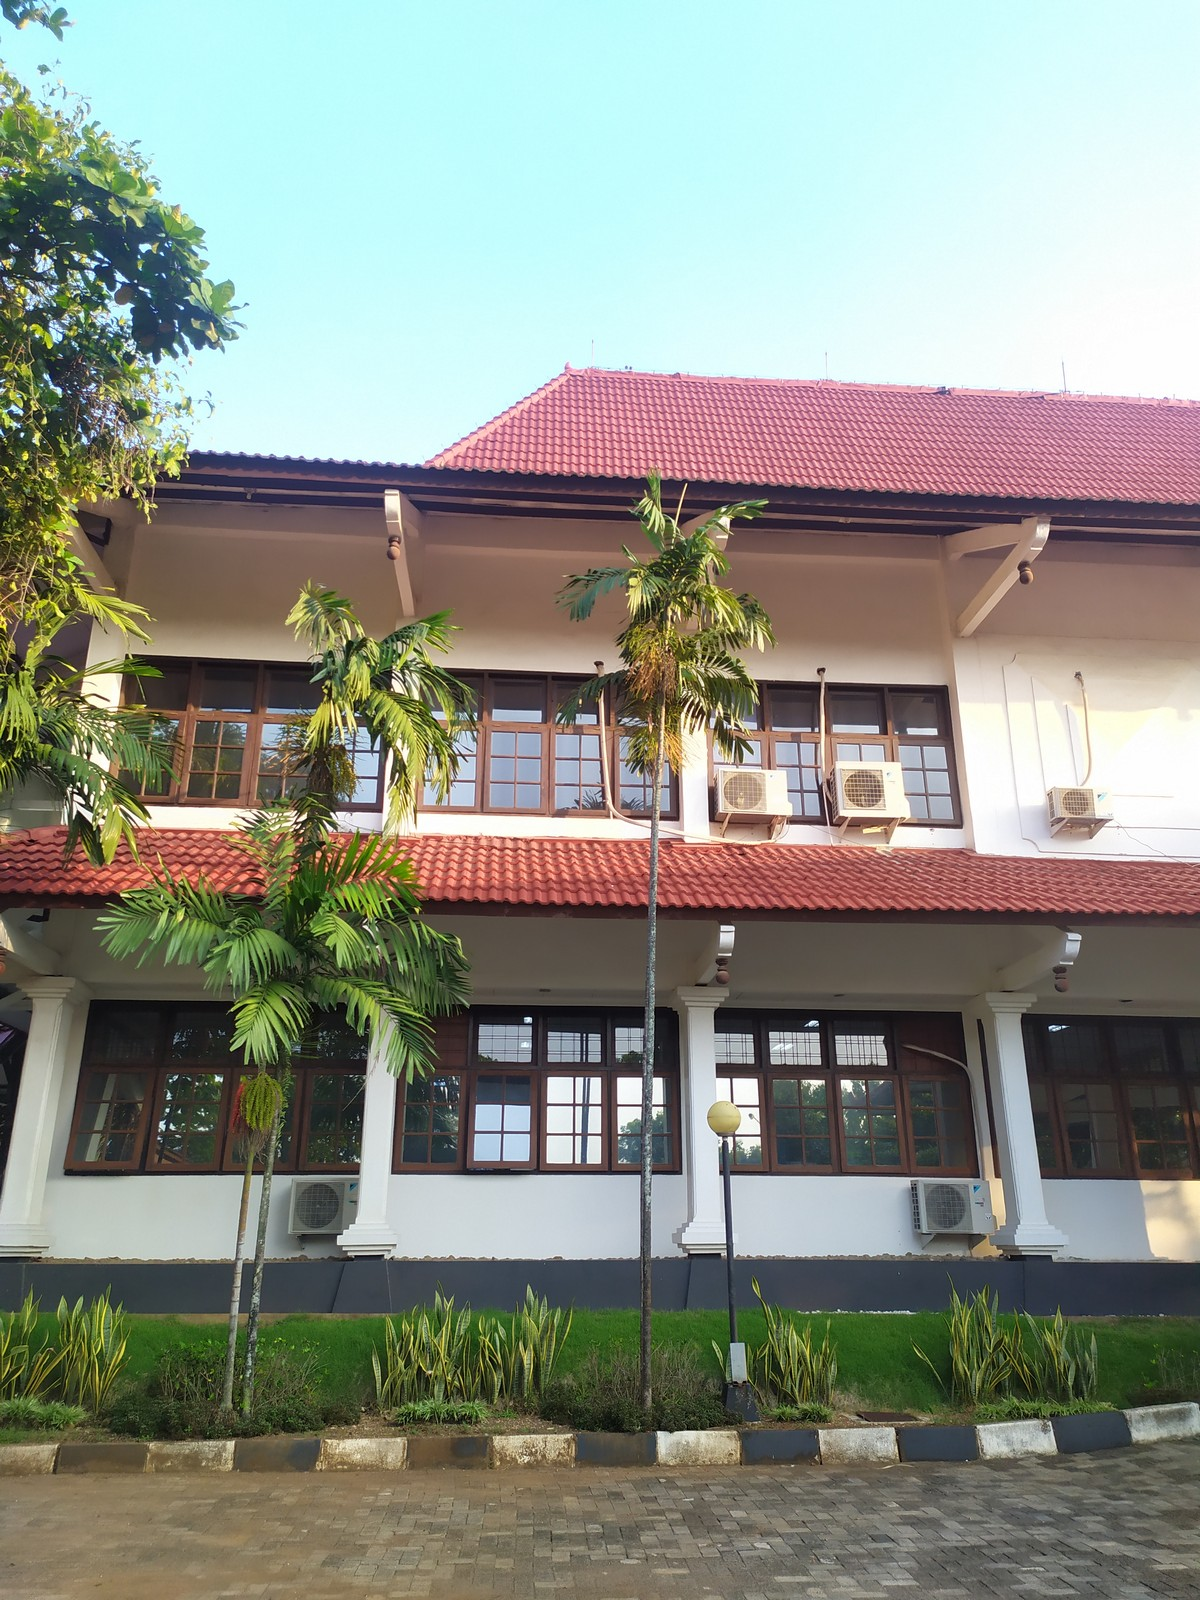concrete column: (979, 1008, 1049, 1233), (677, 1010, 729, 1232)
